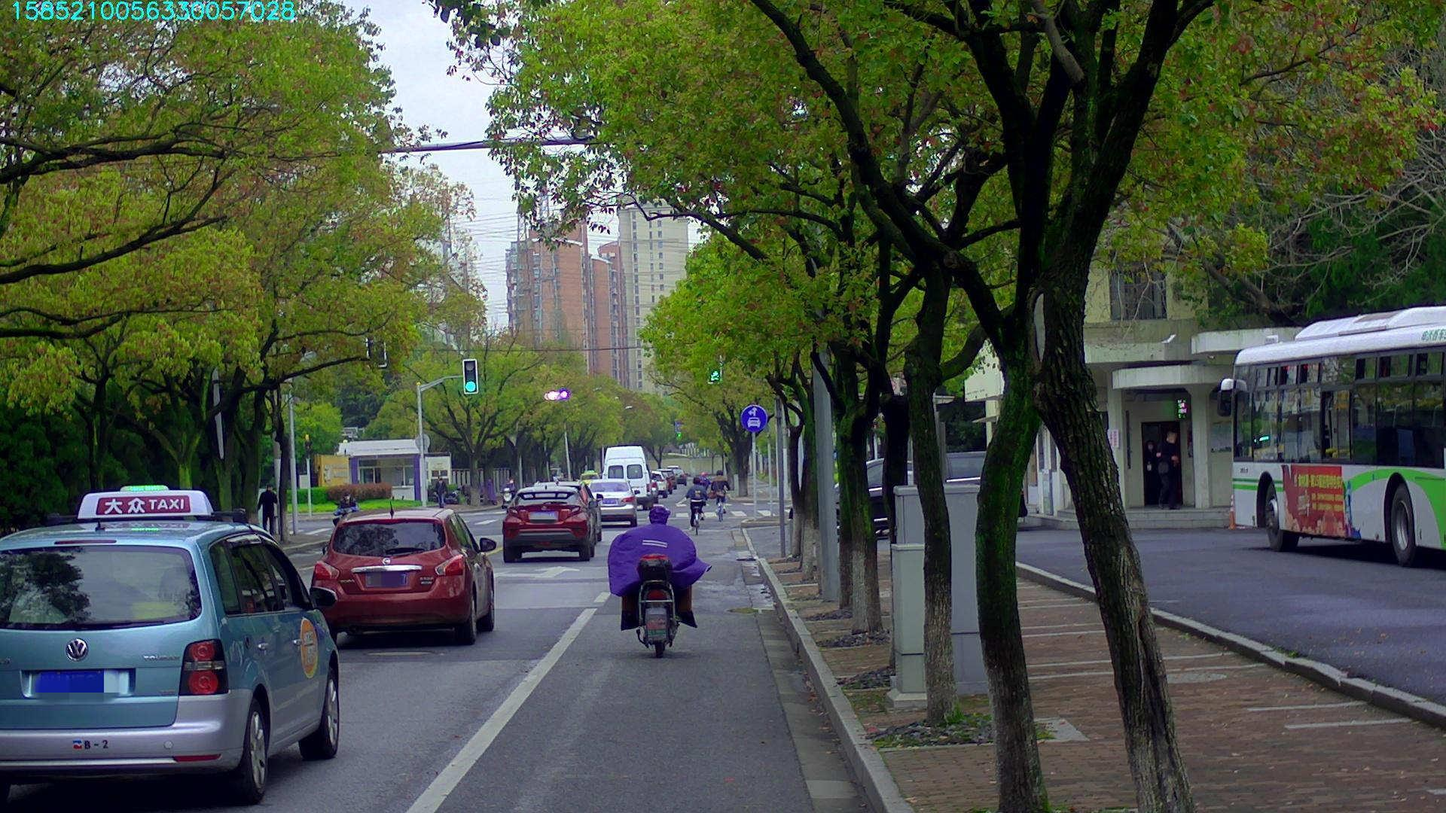green: (463, 359, 477, 393), (708, 348, 720, 382)
